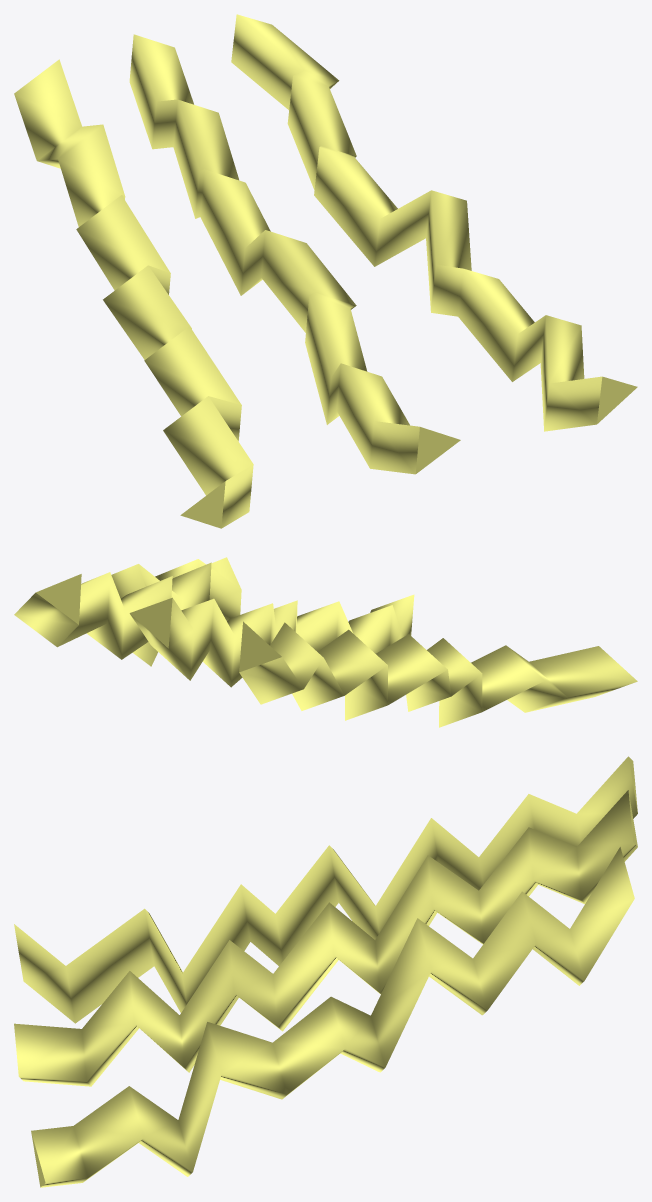
Rendered from czulki.obj.
3 renders of one model, top to bottom at view 1: azimuth 30°, elevation 25°; view 2: azimuth 150°, elevation 25°; view 3: azimuth 270°, elevation 25°, orthographic. The views are drawn at different scales.
Parts seen in each view (by area): view 1: Cylinder05, Duplicate02, Duplicate01; view 2: Duplicate01, Cylinder05, Duplicate02; view 3: Cylinder05, Duplicate02, Duplicate01.
Part boxes in pixels (box(x1,y1,x2,y2)): Cylinder05: box(231, 14, 637, 431); Duplicate02: box(129, 34, 460, 474); Duplicate01: box(14, 59, 253, 528); Duplicate01: box(239, 621, 637, 727); Cylinder05: box(14, 557, 241, 666); Duplicate02: box(129, 594, 414, 687); Cylinder05: box(31, 847, 634, 1187); Duplicate02: box(14, 790, 637, 1086); Duplicate01: box(14, 756, 637, 1023).
Bounding box in the file's own units: 0.7571 × 0.4135 × 0.7669.
